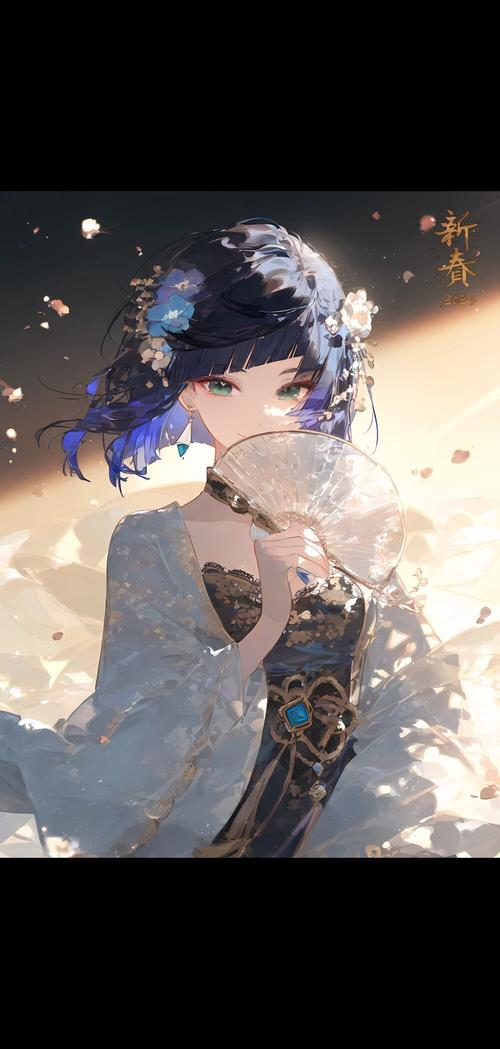夜兰: (32, 212, 466, 856)
